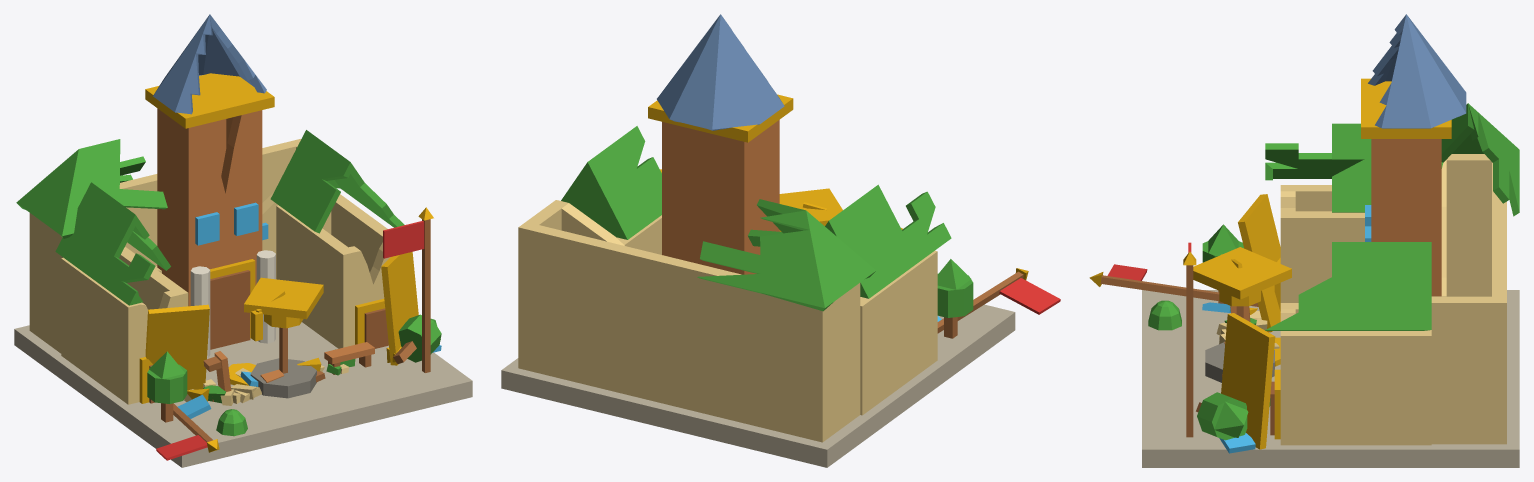
The model's file is university_t3_v2_dmg1.glb.
3 renders of one model, left to right at view 1: azimuth 30°, elevation 25°; view 2: azimuth 150°, elevation 25°; view 3: azimuth 270°, elevation 25°, orthographic. The views are drawn at different scales.
Parts seen in each view (by area): view 1: university_t3_v2_dmg1; view 2: university_t3_v2_dmg1; view 3: university_t3_v2_dmg1.
Boxes of the visible parts, bbox=[...] form: university_t3_v2_dmg1: bbox=[14, 14, 472, 467]; university_t3_v2_dmg1: bbox=[501, 14, 1060, 467]; university_t3_v2_dmg1: bbox=[1089, 14, 1519, 467].
Bounding box in the file's own units: 0.8433 × 0.82 × 0.8549.
Materials: 1 (1 with a texture image).
